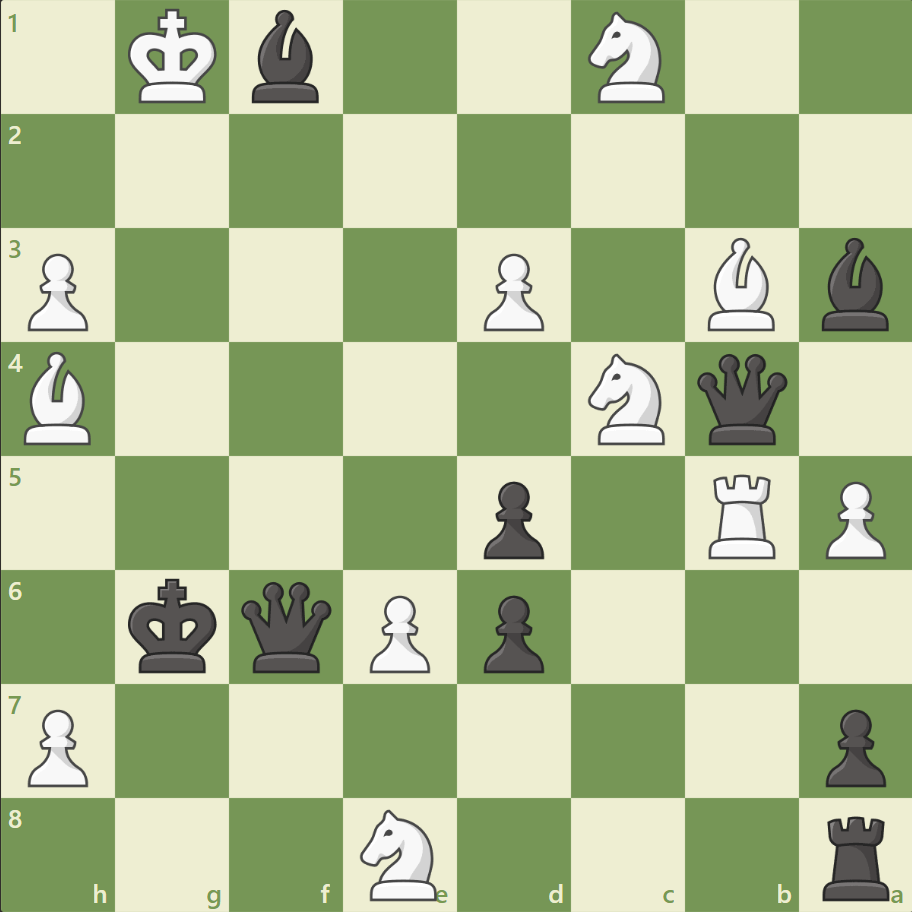B: (698, 233, 782, 336), (17, 347, 101, 449)
K: (124, 4, 224, 112)
N: (351, 802, 449, 904), (579, 7, 676, 110), (579, 348, 676, 450)
P: (20, 700, 95, 791), (474, 246, 549, 337), (20, 246, 95, 337), (361, 586, 435, 677), (815, 473, 889, 564)
R: (700, 466, 783, 563)
b: (812, 233, 896, 336), (244, 6, 328, 109)
k: (124, 571, 224, 679)
p: (474, 586, 549, 677), (474, 473, 549, 564), (815, 700, 889, 791)
q: (237, 576, 336, 676), (691, 349, 790, 449)
r: (814, 806, 897, 904)
